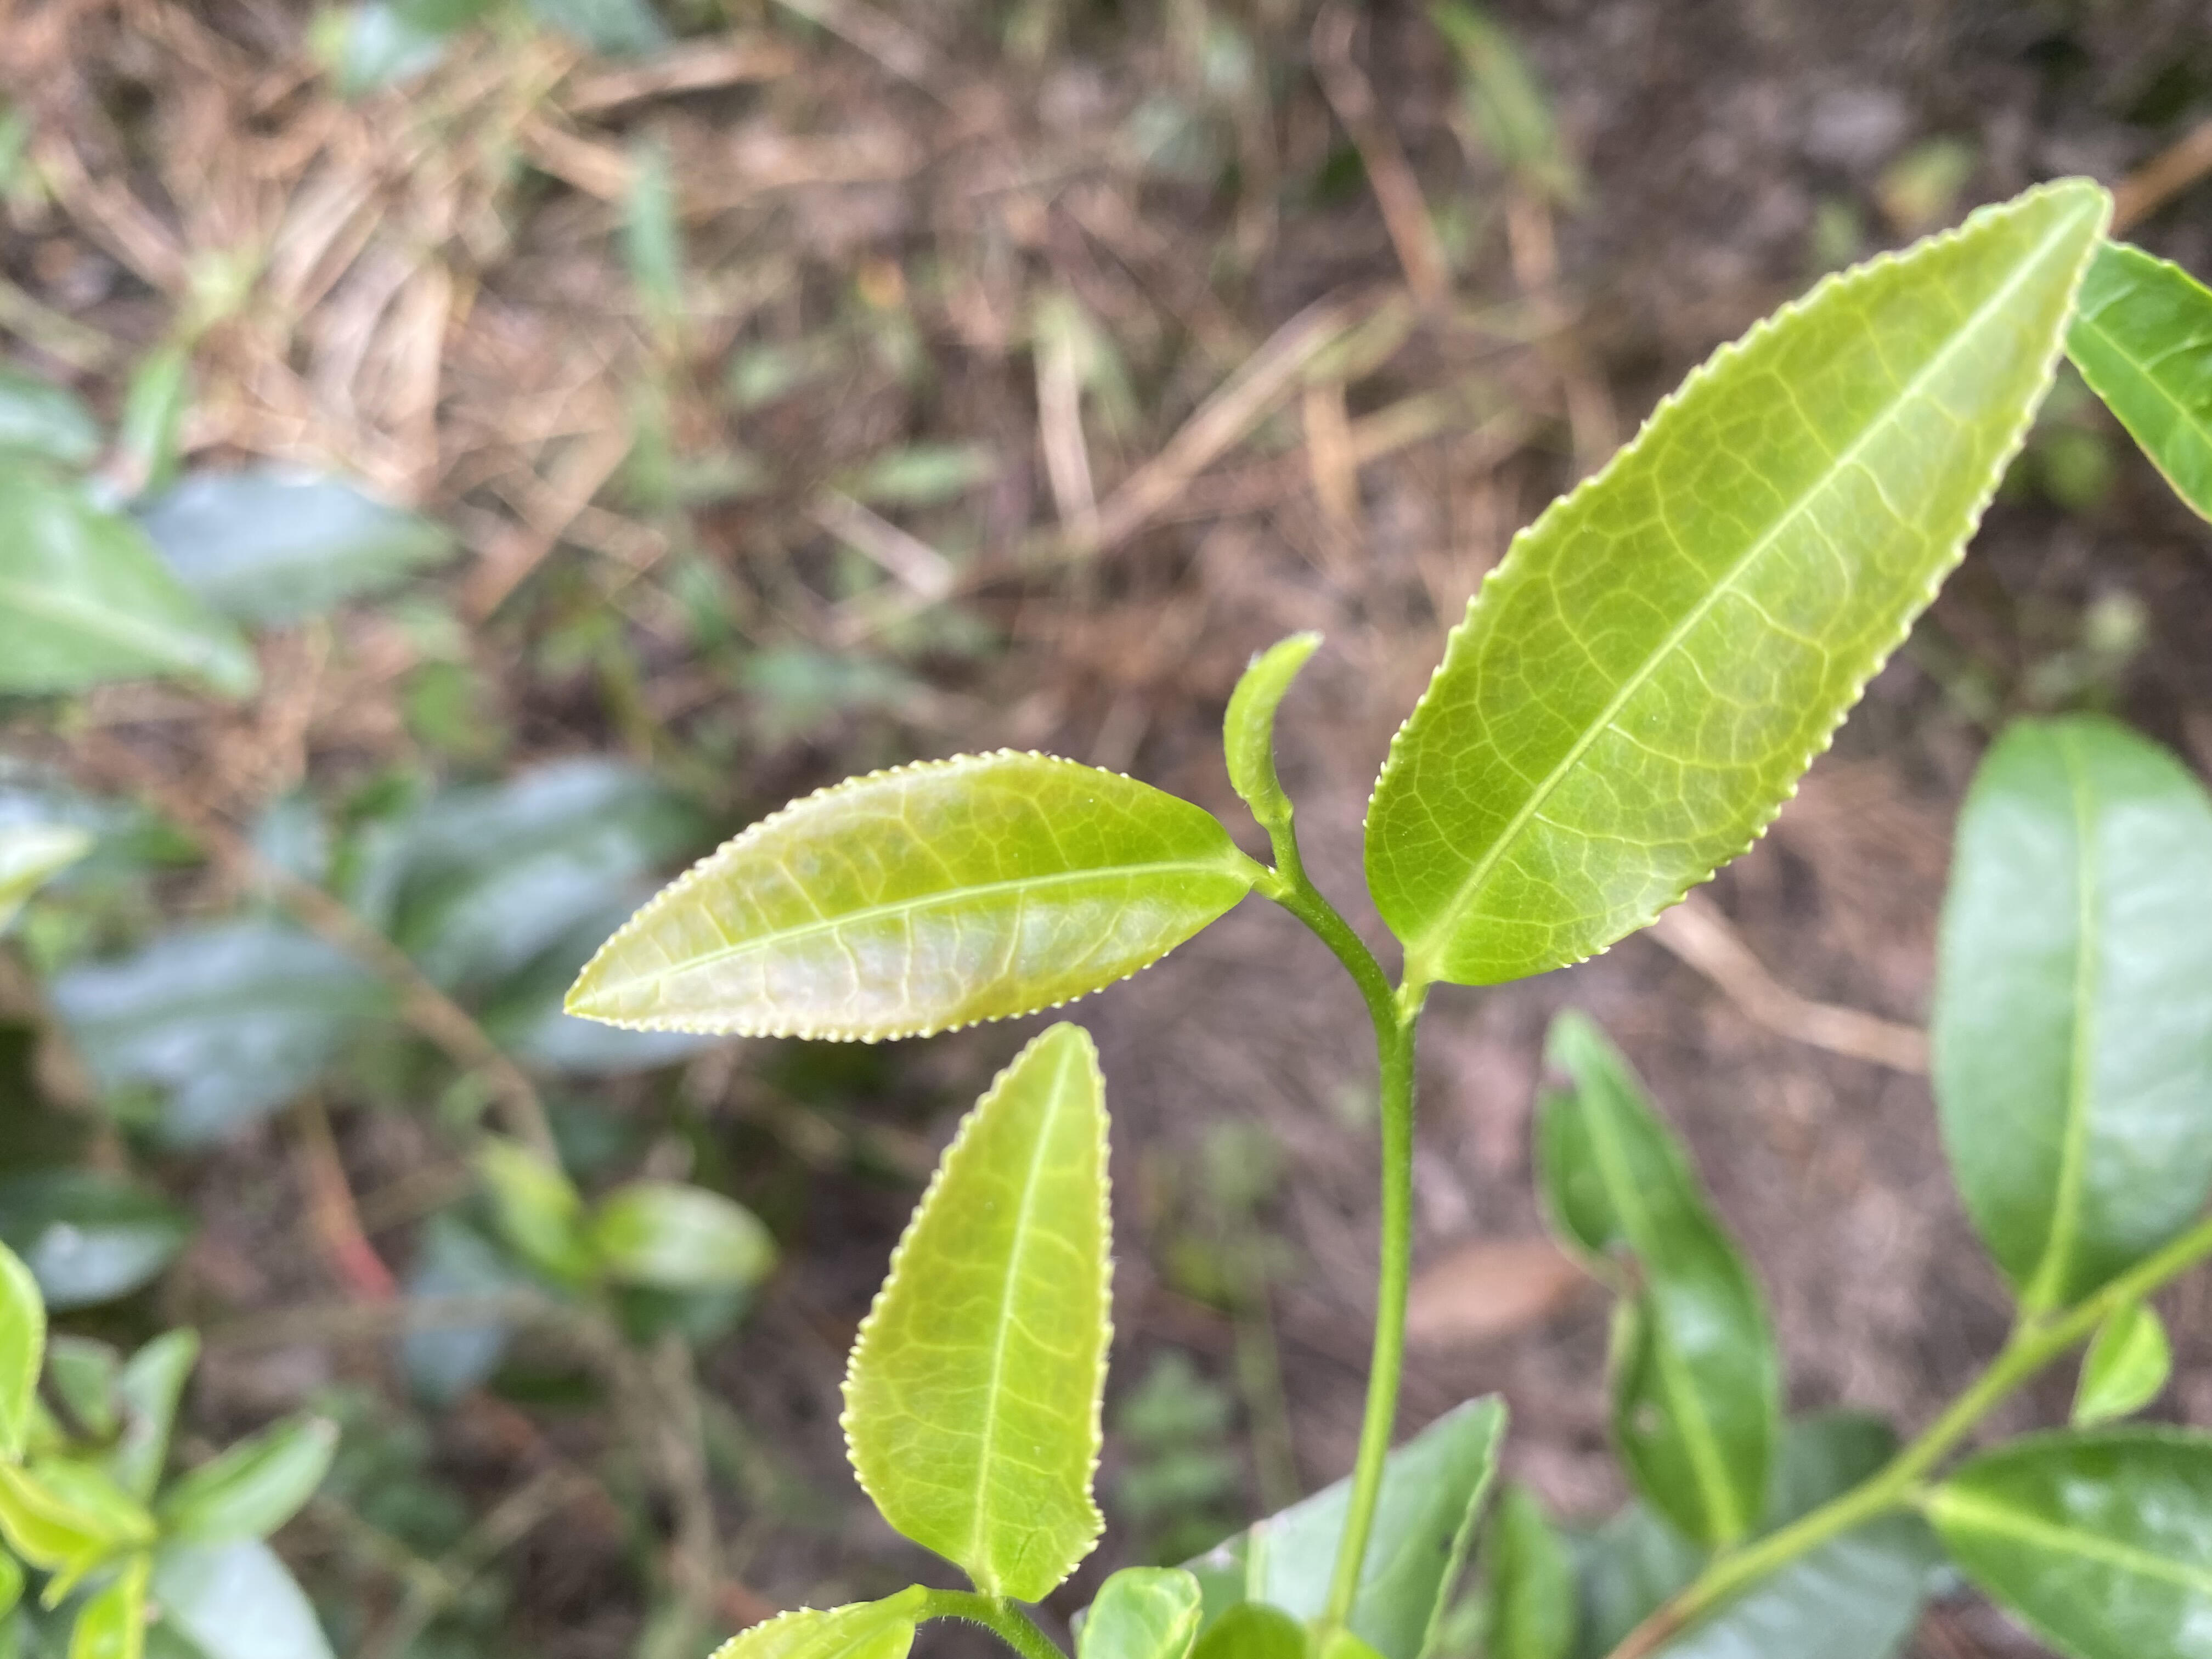healthy: (1360, 174, 2113, 988), (561, 748, 1251, 1046), (836, 1019, 1120, 1605)
